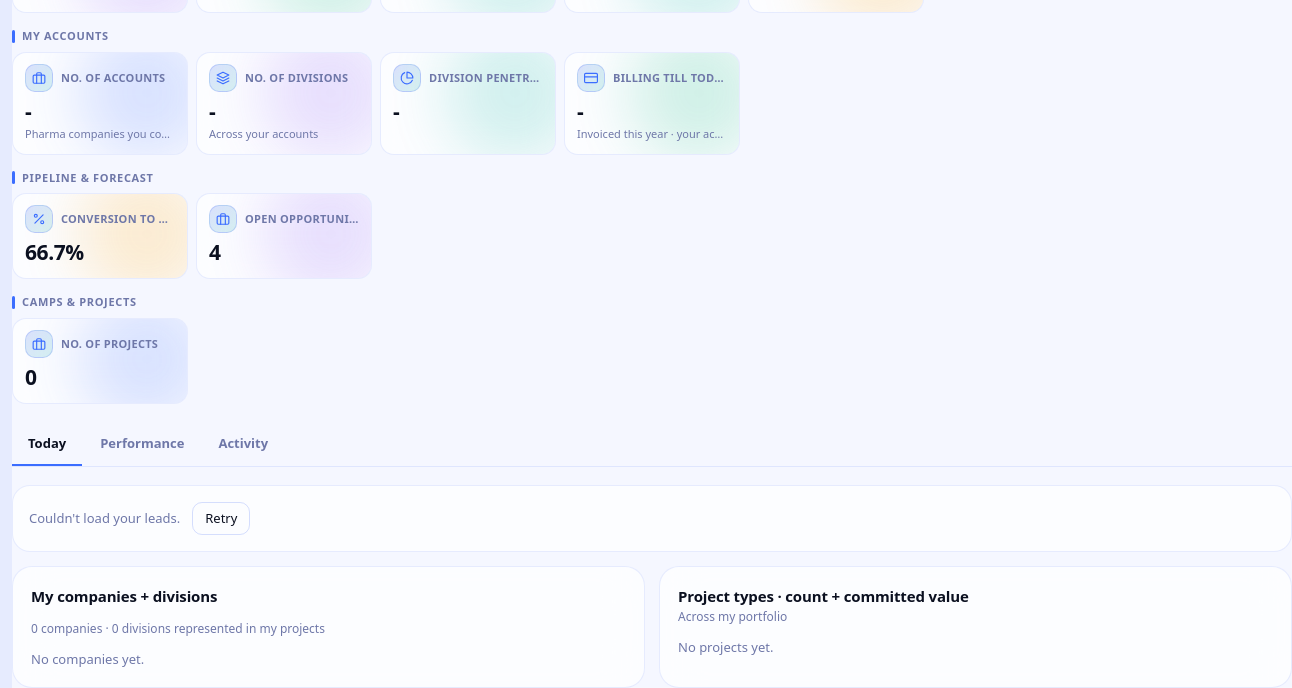
Test: SalesDashboardPage — a failed sweep must never render as real empty data › Performance: a failed lead sweep (hidden by kpiError only observing /leads/report) also surfaces a retry here
(page scrolled)
Click the button "Performance". click: (142, 445)
box: [84, 424, 200, 466]
(page scrolled)
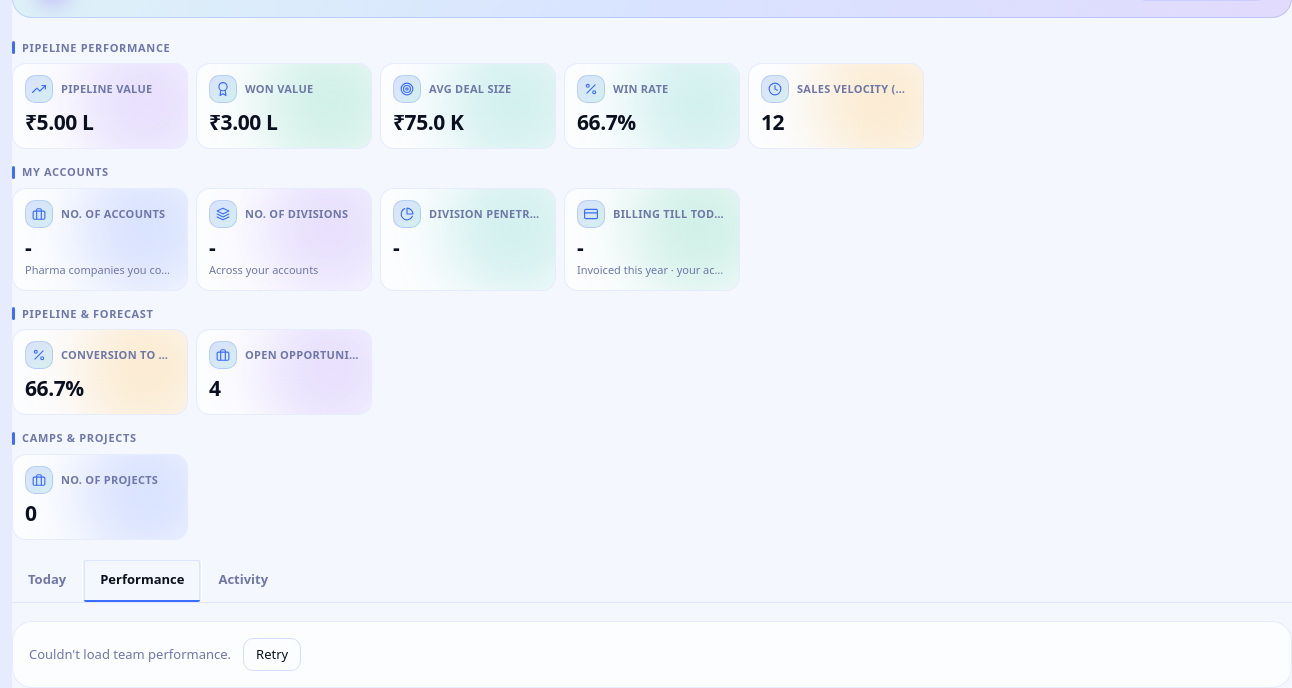
Result: the text "Couldn't load team performance." is shown at [29, 644, 231, 664]
